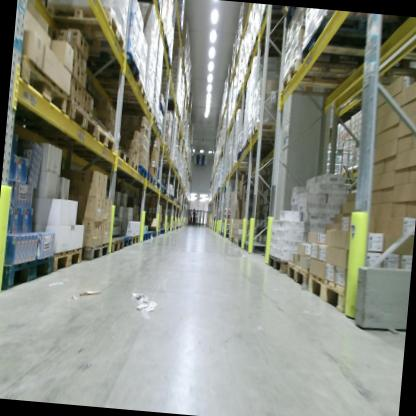pallet: (299, 12, 397, 80), (274, 53, 377, 111), (40, 0, 132, 54), (15, 53, 74, 117), (1, 250, 54, 301), (81, 48, 141, 83), (304, 270, 349, 315), (64, 96, 100, 142), (99, 69, 148, 99), (50, 242, 85, 280), (107, 90, 155, 114), (96, 120, 121, 161), (123, 107, 160, 129), (79, 239, 111, 264), (285, 259, 310, 290), (250, 119, 279, 140), (245, 135, 277, 151), (267, 253, 290, 275), (242, 239, 269, 255), (104, 236, 125, 254), (132, 0, 161, 13), (116, 145, 132, 168), (127, 155, 139, 173), (119, 234, 133, 249), (137, 162, 149, 178), (159, 144, 170, 156), (146, 172, 155, 185), (132, 233, 140, 245), (140, 231, 148, 241), (153, 178, 159, 190), (238, 239, 245, 249), (150, 229, 157, 237), (158, 129, 164, 138), (147, 231, 152, 240), (155, 229, 160, 238), (234, 238, 239, 246), (157, 182, 161, 192), (231, 237, 234, 244)
pallet_truck: (187, 207, 194, 226)
